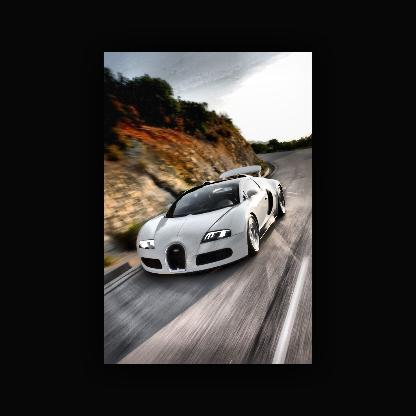Bugatti Veyron 16-4 Convertible 2009: (135, 174, 285, 280)
